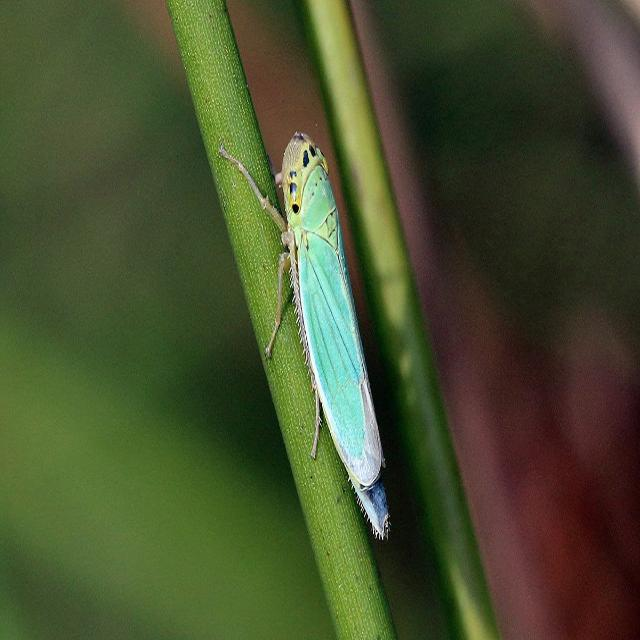Yechan: (258, 119, 389, 551)
